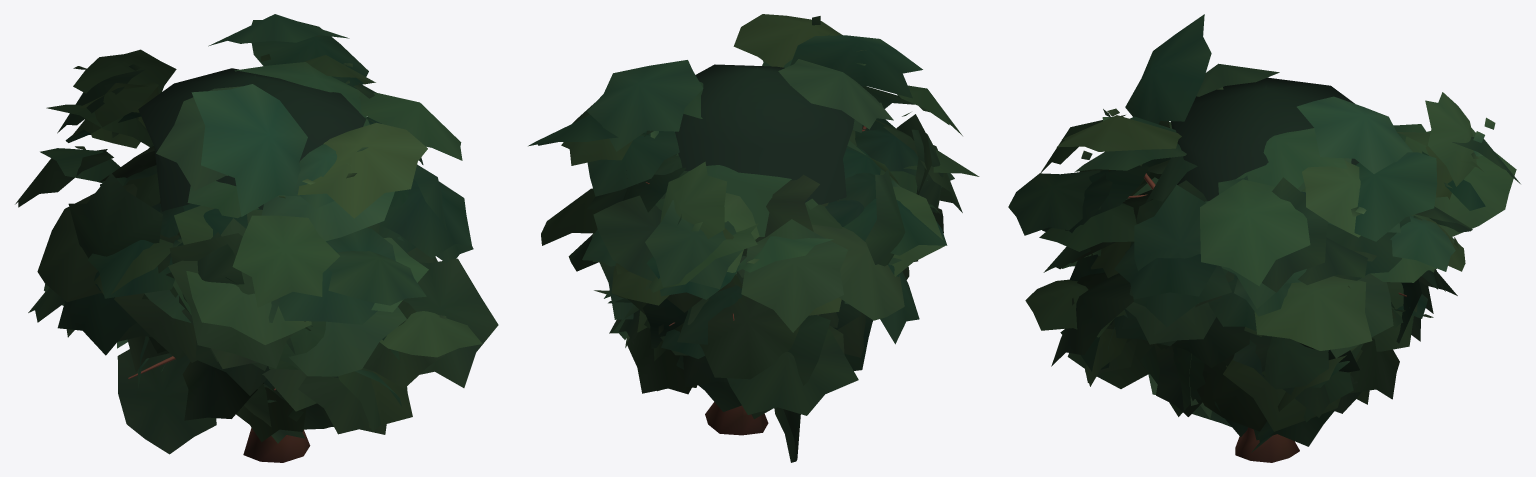
File: yew-a.lod0.glb
3 renders of one model, left to right at view 1: azimuth 30°, elevation 25°; view 2: azimuth 150°, elevation 25°; view 3: azimuth 270°, elevation 25°, orthographic. The views are drawn at different scales.
Bounding box in the file's own units: 8.53 × 8.92 × 10.7.
